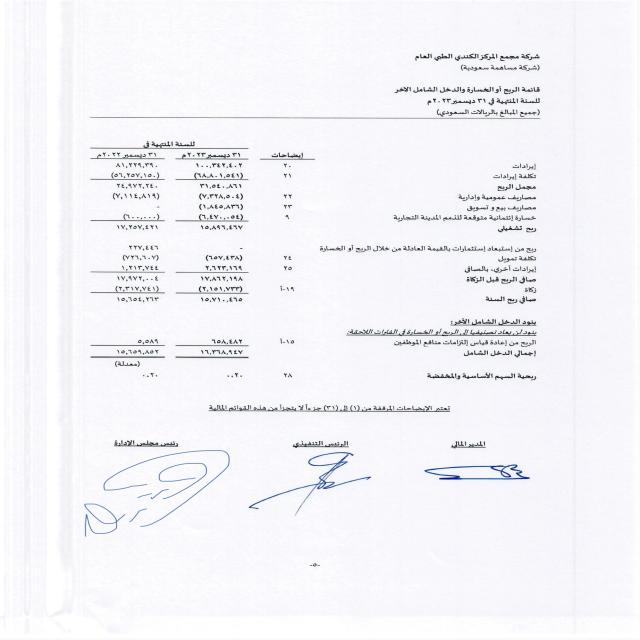financial_sheets: (388, 84, 545, 95)
table: (62, 131, 308, 393)
